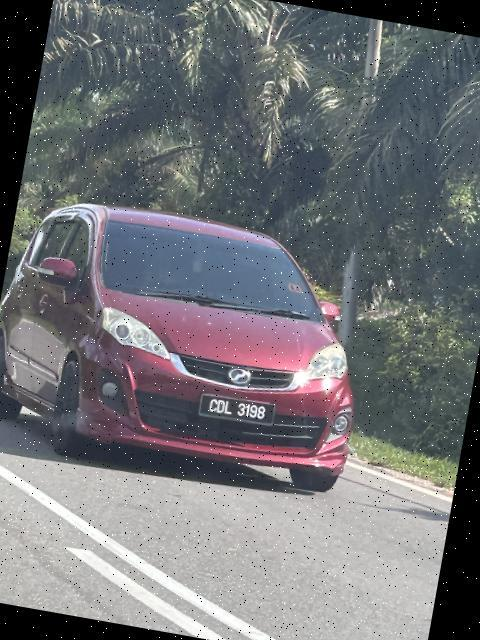CDL3198: (196, 393, 278, 429)
License_Plate: (196, 393, 278, 429)
car: (1, 185, 388, 510)
